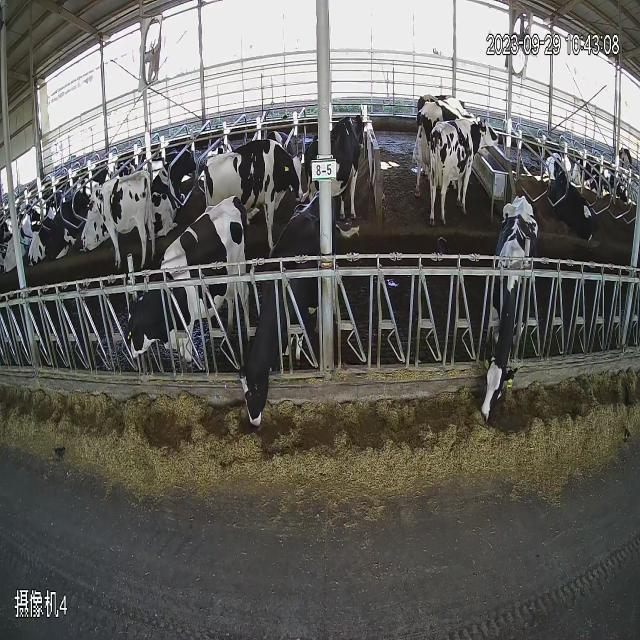feeding: (244, 190, 332, 450), (468, 177, 550, 433), (432, 114, 500, 220)
lying down: (544, 142, 610, 250), (30, 194, 70, 268)
standing: (120, 192, 251, 368), (330, 99, 386, 210), (86, 171, 150, 267)
